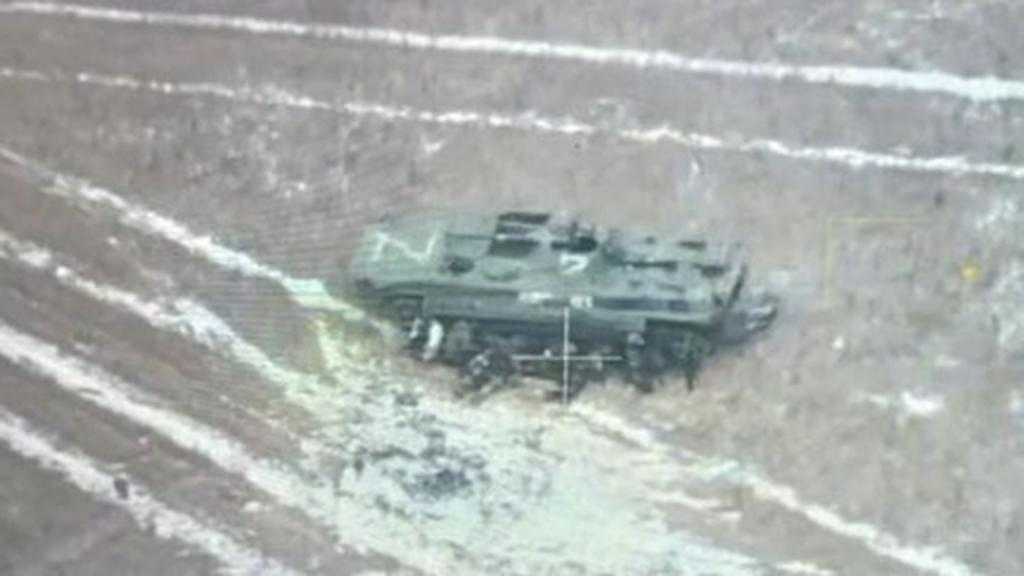APC-IFV: (342, 190, 756, 392)
